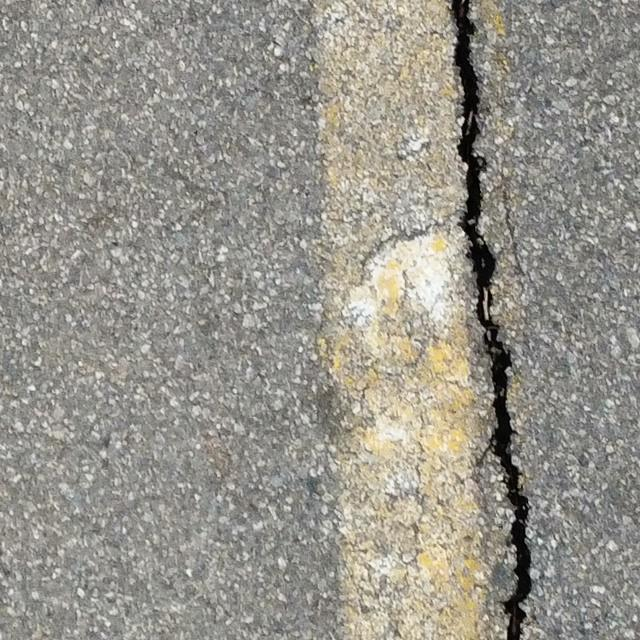LongitudinalCrack: (443, 1, 532, 638)
